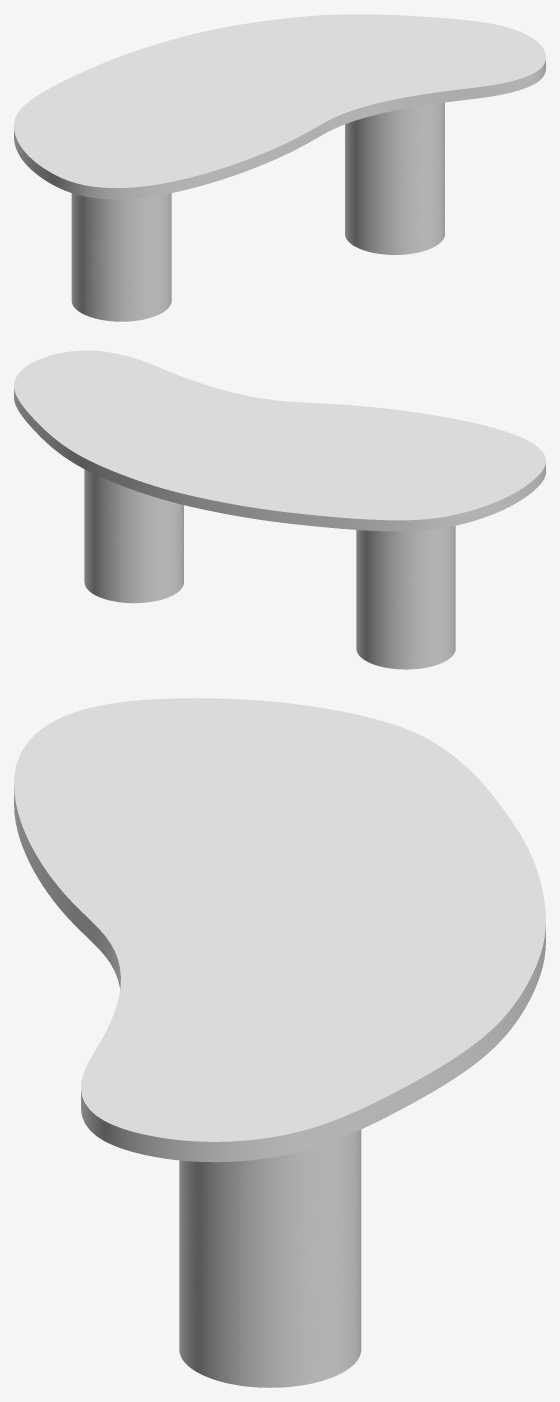
The model's file is purewhite_leaf1_standard_stream.glb.
3 renders of one model, top to bottom at view 1: azimuth 30°, elevation 25°; view 2: azimuth 150°, elevation 25°; view 3: azimuth 270°, elevation 25°, orthographic. The views are drawn at different scales.
Parts seen in each view (by area): view 1: standard_leaf1, stream; view 2: standard_leaf1, stream; view 3: standard_leaf1, stream.
Part boxes in pixels (x1,y1,x2,y2): standard_leaf1: (14,14,545,199); stream: (71,102,444,321); standard_leaf1: (14,350,545,531); stream: (84,469,455,669); standard_leaf1: (14,698,545,1162); stream: (179,1129,361,1387).
Size of the model in its own units: 7.5 by 2.51 by 3.8.
1 material, 1 textured.
